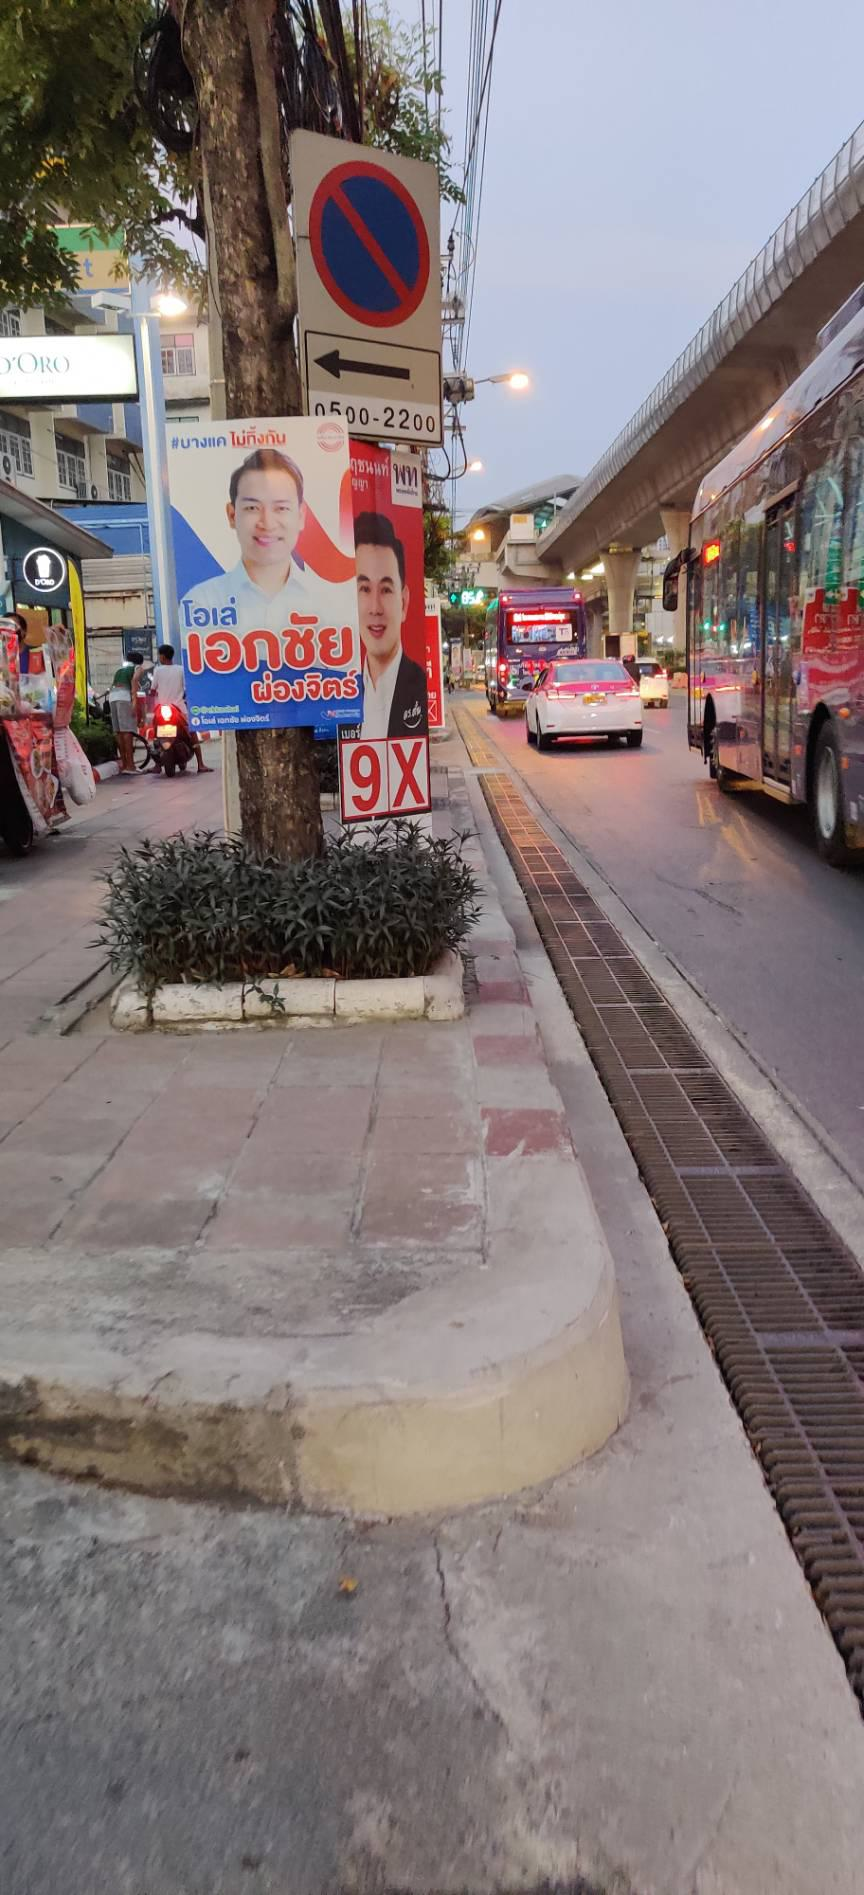Banner: (160, 408, 358, 728), (327, 433, 433, 854)
